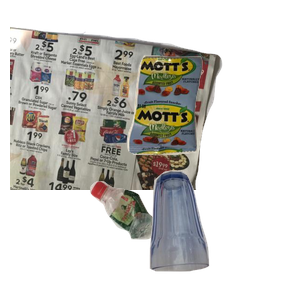glass: (147, 168, 300, 300)
paper: (10, 22, 225, 202)
plastic: (87, 178, 234, 300)
trash: (125, 53, 300, 201)
